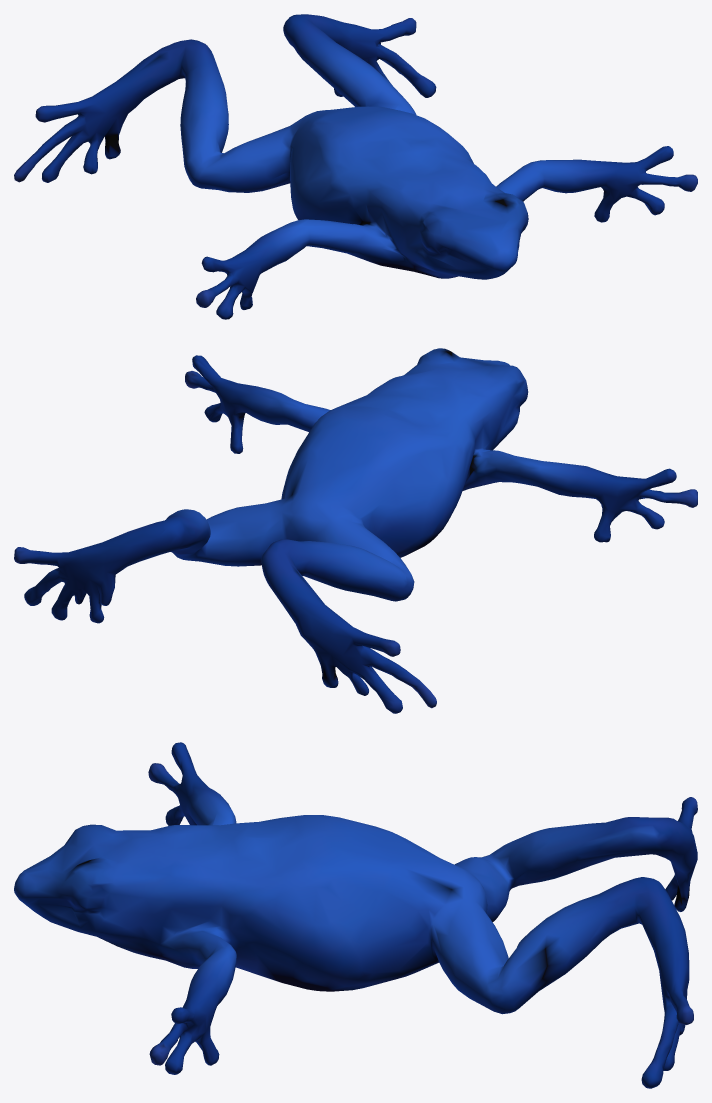
Rendered from dartfrog-cobalt_clean.swim.lo.glb.
The picture shows the model from 3 angles, top to bottom: view 1: azimuth 30°, elevation 25°; view 2: azimuth 150°, elevation 25°; view 3: azimuth 270°, elevation 25°; orthographic projection. The views are drawn at different scales.
Parts seen in each view (by area): view 1: dartfrog:cobalt_clean.swim; view 2: dartfrog:cobalt_clean.swim; view 3: dartfrog:cobalt_clean.swim.
Part boxes in pixels (x1,y1,x2,y2): dartfrog:cobalt_clean.swim: (14, 14, 697, 319); dartfrog:cobalt_clean.swim: (14, 348, 697, 713); dartfrog:cobalt_clean.swim: (14, 742, 697, 1088).
Size of the model in its own units: 0.0612 by 0.0153 by 0.0616.
